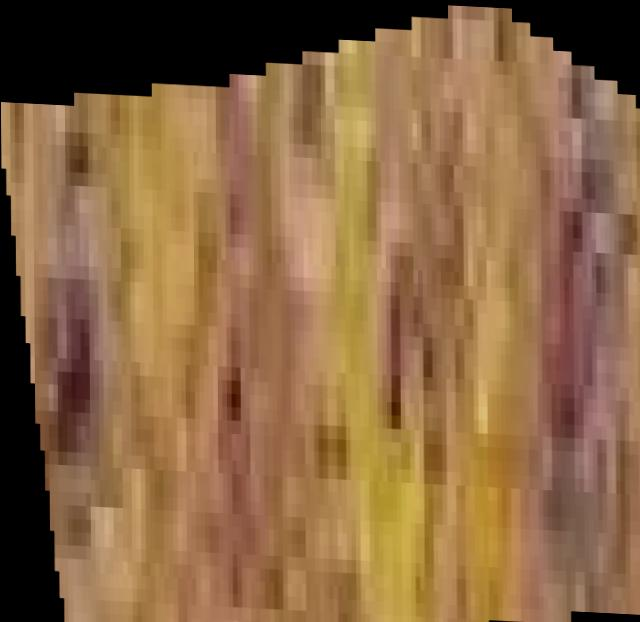Pitting Corrosion: (1, 1, 640, 622)
